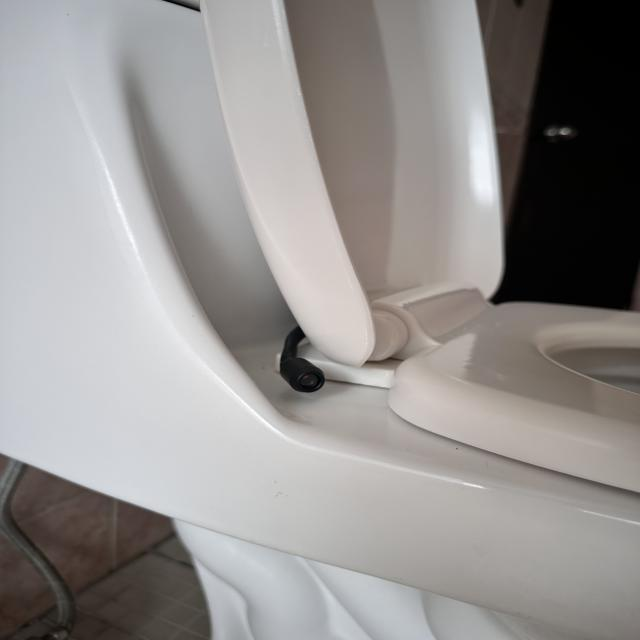hidden camera: (292, 368, 325, 394)
